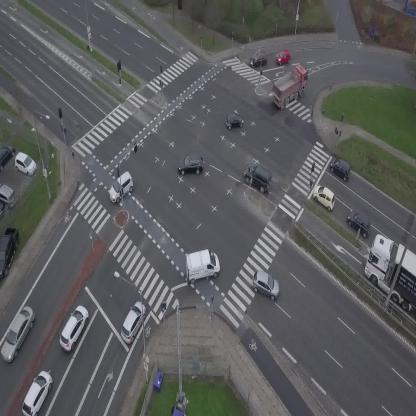car: (0, 303, 41, 364), (54, 303, 94, 353), (17, 368, 57, 416), (115, 299, 151, 345), (238, 159, 278, 195), (103, 170, 139, 205), (248, 269, 285, 301), (342, 208, 375, 238), (309, 183, 340, 211), (326, 154, 356, 181), (177, 154, 204, 175), (247, 50, 269, 67), (225, 112, 245, 130), (273, 48, 292, 66)
lorry: (264, 61, 317, 111), (179, 246, 223, 285)
